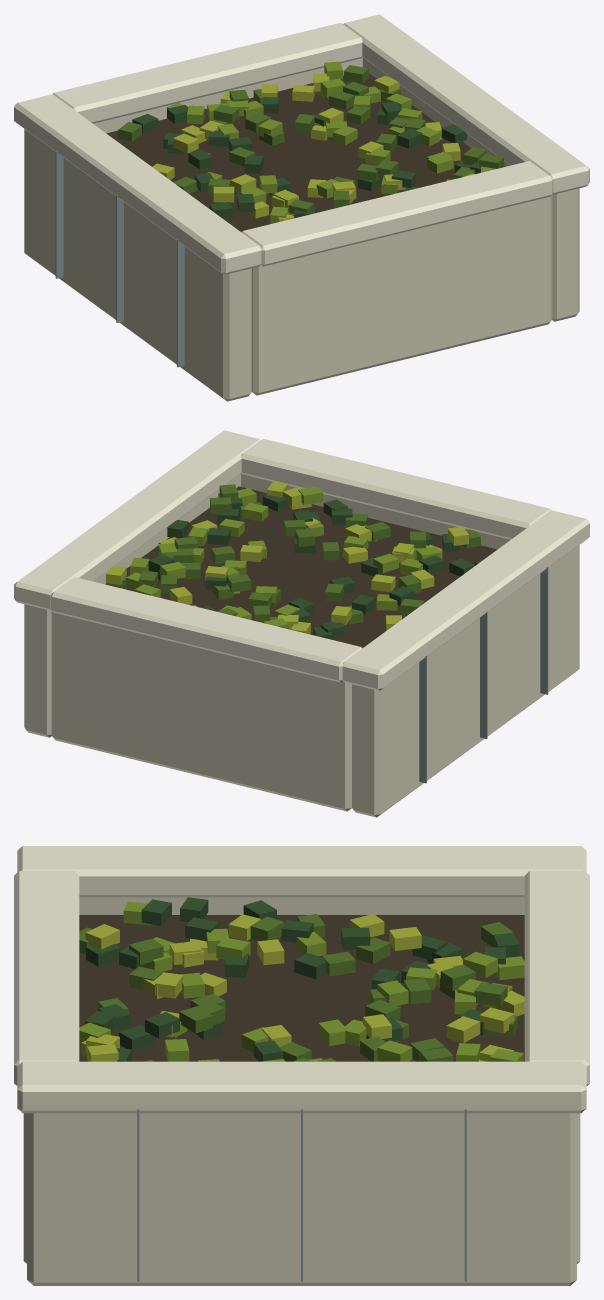
File: planter_square.glb
3 views of the same model, one above another, from view 1: azimuth 30°, elevation 25°; view 2: azimuth 150°, elevation 25°; view 3: azimuth 270°, elevation 25° (orthographic). The views are drawn at different scales.
Visible parts, largest first — view 1: planter_square__stone, planter_square__paper, planter_square__soil, planter_square__leaf, planter_square__leaf_mid, planter_square__leaf_dark, planter_square__leaf_light, planter_square__metal_light; view 2: planter_square__stone, planter_square__paper, planter_square__soil, planter_square__leaf, planter_square__leaf_dark, planter_square__leaf_mid, planter_square__leaf_light, planter_square__metal_light; view 3: planter_square__stone, planter_square__paper, planter_square__soil, planter_square__leaf_dark, planter_square__leaf, planter_square__leaf_mid, planter_square__leaf_light, planter_square__metal_light.
Part boxes in pixels (x1,y1,x2,y2): planter_square__stone: (24,57,579,401); planter_square__paper: (14,14,589,274); planter_square__soil: (106,73,470,232); planter_square__leaf: (118,65,503,214); planter_square__leaf_mid: (167,61,495,223); planter_square__leaf_dark: (132,95,504,226); planter_square__leaf_light: (152,73,474,222); planter_square__metal_light: (55,151,184,367); planter_square__stone: (24,473,579,817); planter_square__paper: (14,430,589,690); planter_square__soil: (105,486,497,648); planter_square__leaf: (111,484,480,624); planter_square__leaf_dark: (148,493,483,639); planter_square__leaf_mid: (121,487,441,628); planter_square__leaf_light: (106,481,468,634); planter_square__metal_light: (419,567,548,783); planter_square__stone: (23,897,580,1285); planter_square__paper: (14,846,589,1113); planter_square__soil: (79,915,524,1061); planter_square__leaf_dark: (85,897,519,1061); planter_square__leaf: (79,914,517,1061); planter_square__leaf_mid: (79,902,524,1061); planter_square__leaf_light: (81,914,524,1061); planter_square__metal_light: (137,1109,466,1281).
Size of the model in its own units: 1.77 by 0.6935 by 1.76.
